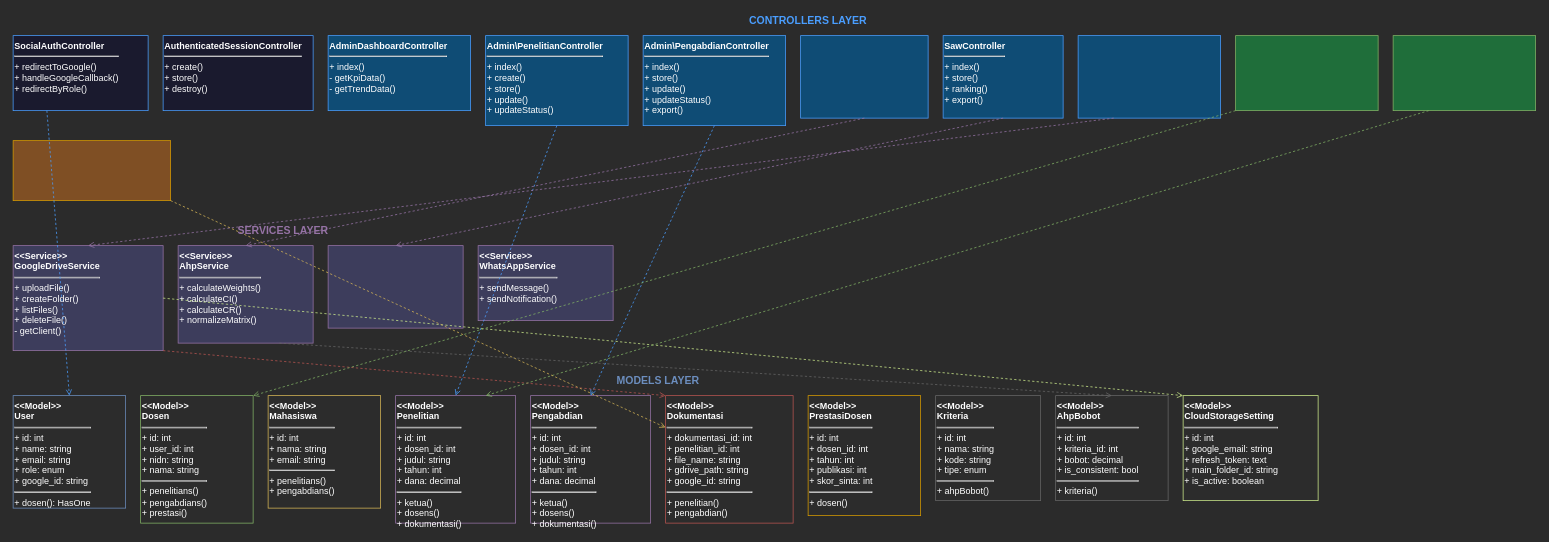
Image size: 1549x542. Some labels were removed from this diagram. Here are the shapes that lost their labels. From the top down, the box of each, then its label:
(800, 35, 928, 118): AhpController + index() + saveComparison() + calculate() + showResults()
(1077, 35, 1221, 118): CloudStorageController + connect() + callback() + saveFolders() + disconnect()
(1235, 35, 1378, 111): Dosen\DashboardController + index() - getStatistics() - getTrendData()
(1392, 35, 1536, 111): Dosen\PenelitianController + index() + create() + store() + update()
(12, 140, 171, 201): MahasiswaDashboardController + index() - getDocumentations()
(327, 245, 463, 328): <<Service>> SawService + calculateRanking() + normalizeData() + calculateScore()
